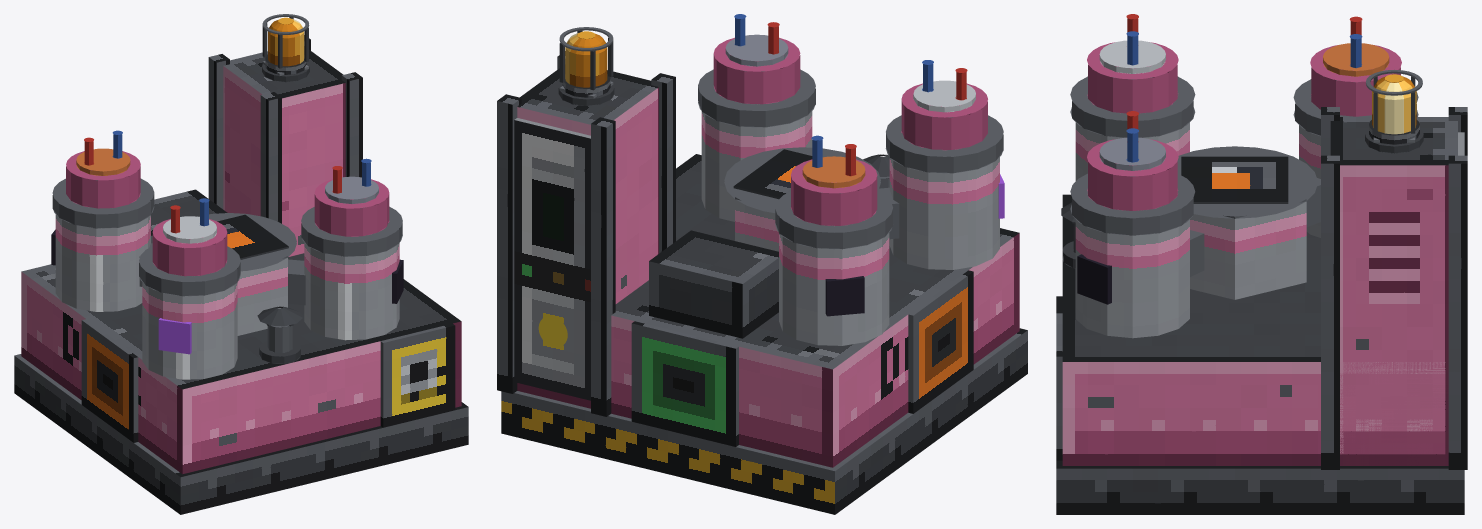
File: deposition_chamber.glb
3 views of the same model, side by side, from view 1: azimuth 30°, elevation 25°; view 2: azimuth 150°, elevation 25°; view 3: azimuth 270°, elevation 25° (orthographic). The views are drawn at different scales.
Visible parts, largest first — view 1: mode_aluminium_body, shape_0, body_glow, mode_aluminium_shape_10; view 2: mode_aluminium_body, shape_0, body_glow; view 3: mode_aluminium_body, shape_0, part_0_glow.
Part boxes in pixels (box(x1,y1,x2,y2)): mode_aluminium_body: box(14, 14, 468, 514); shape_0: box(217, 214, 288, 259); body_glow: box(268, 20, 299, 66); mode_aluminium_shape_10: box(158, 318, 191, 354); mode_aluminium_body: box(497, 14, 1027, 514); shape_0: box(733, 149, 812, 199); body_glow: box(570, 33, 607, 87); mode_aluminium_body: box(1056, 14, 1467, 514); shape_0: box(1181, 156, 1288, 203); part_0_glow: box(1373, 80, 1415, 134).
Size of what is drawn, in the model's own units: 2.04 by 2.21 by 2.02.
1 material, 1 textured.
